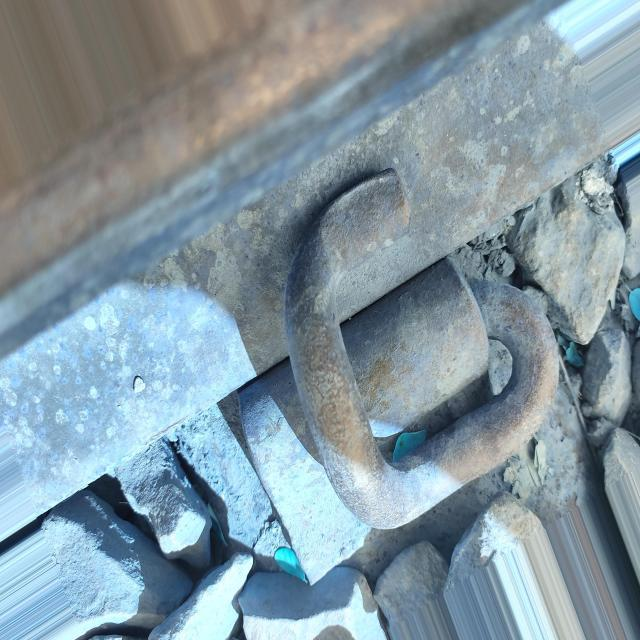Good Fasteners: (228, 140, 635, 566)
